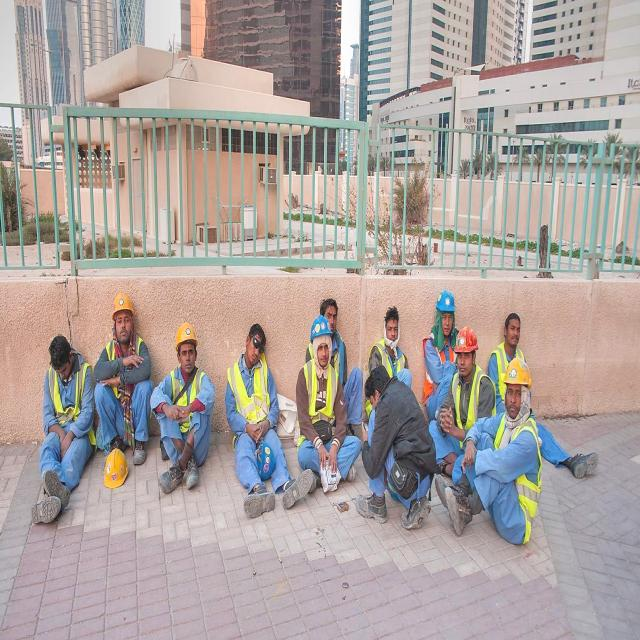face_nomask: (114, 314, 133, 346), (246, 337, 264, 366), (506, 386, 523, 416), (321, 302, 339, 330), (180, 346, 196, 376), (383, 322, 400, 348), (441, 312, 456, 337), (457, 349, 471, 374), (506, 323, 521, 346), (317, 342, 329, 367)
hand_noglove: (456, 436, 480, 479), (436, 402, 454, 437), (123, 352, 142, 373), (328, 440, 338, 478), (245, 417, 258, 445), (161, 402, 177, 423), (318, 441, 328, 472), (178, 402, 189, 427), (260, 413, 269, 442)
head_helmet: (102, 447, 129, 490), (504, 358, 531, 386), (256, 440, 277, 476), (175, 320, 198, 350), (434, 289, 458, 316), (111, 290, 134, 318), (455, 325, 478, 353), (310, 313, 332, 339)
head_nohelmet: (47, 330, 70, 370), (364, 367, 389, 395), (249, 318, 269, 343), (383, 302, 400, 330), (322, 290, 340, 315), (504, 306, 522, 326)
person: (434, 361, 539, 535), (225, 323, 292, 512), (356, 370, 436, 520), (151, 321, 214, 497), (40, 336, 91, 530), (92, 290, 152, 450), (297, 316, 357, 473), (430, 323, 491, 440), (320, 296, 363, 428), (419, 289, 459, 410), (484, 305, 534, 388), (367, 306, 412, 386)
shoes: (280, 470, 318, 514), (442, 486, 474, 538), (401, 488, 431, 535), (158, 456, 187, 502), (354, 489, 390, 525), (42, 468, 71, 508), (243, 487, 277, 520), (28, 495, 62, 528), (570, 449, 601, 483), (132, 426, 150, 471), (184, 452, 202, 494)
vest: (493, 418, 540, 543), (227, 361, 271, 433), (49, 359, 87, 431), (104, 338, 142, 404), (304, 364, 338, 432), (448, 376, 482, 443), (171, 364, 203, 434), (422, 338, 451, 398), (368, 341, 408, 373), (495, 344, 529, 370)
